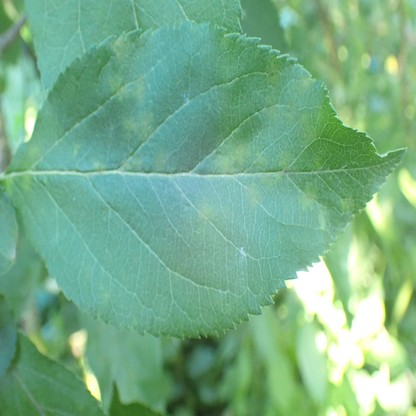scab: (6, 144, 40, 192), (214, 140, 251, 176), (124, 112, 155, 138), (111, 34, 145, 57), (108, 73, 125, 102), (278, 148, 294, 175), (196, 202, 213, 227), (246, 186, 261, 211), (300, 186, 316, 209), (133, 79, 145, 103), (294, 74, 312, 87), (342, 194, 355, 209), (263, 95, 275, 111), (287, 100, 299, 115), (92, 159, 105, 171), (318, 209, 326, 228), (73, 142, 81, 156)
